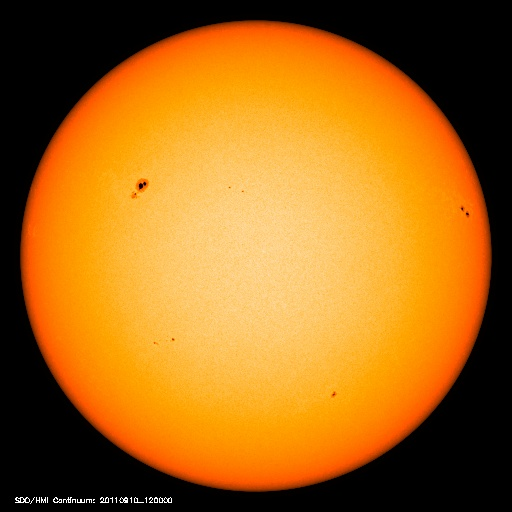sunspot: (125, 173, 156, 203), (146, 329, 186, 352), (450, 197, 480, 227), (221, 178, 252, 199), (321, 383, 348, 407)
